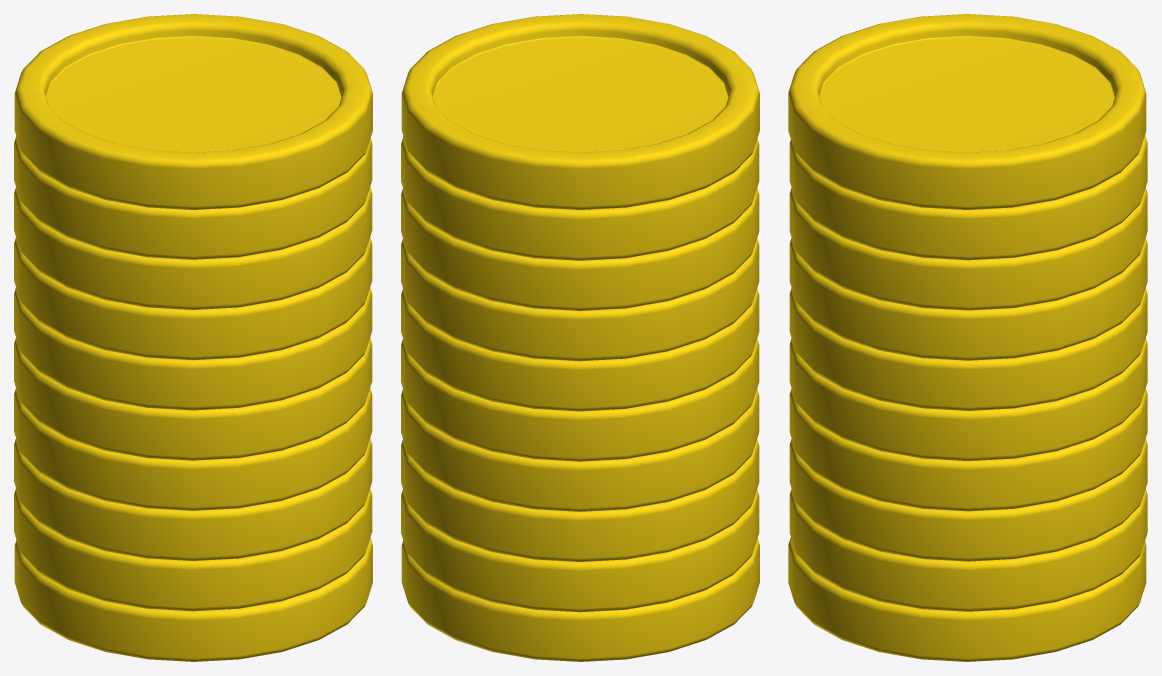
The model's file is Public_1_Stack_of_Coins_5.glb.
The picture shows the model from 3 angles, left to right: view 1: azimuth 30°, elevation 25°; view 2: azimuth 150°, elevation 25°; view 3: azimuth 270°, elevation 25°; orthographic projection.
Visible parts, largest first — view 1: Public_1_Stack_of_Coins_5; view 2: Public_1_Stack_of_Coins_5; view 3: Public_1_Stack_of_Coins_5.
Part boxes in pixels (bbox=[...]): Public_1_Stack_of_Coins_5: bbox=[14, 14, 372, 661]; Public_1_Stack_of_Coins_5: bbox=[401, 14, 759, 661]; Public_1_Stack_of_Coins_5: bbox=[788, 14, 1147, 661].
Bounding box in the file's own units: 1.11 × 1.72 × 1.12.
1 material, 1 textured.
